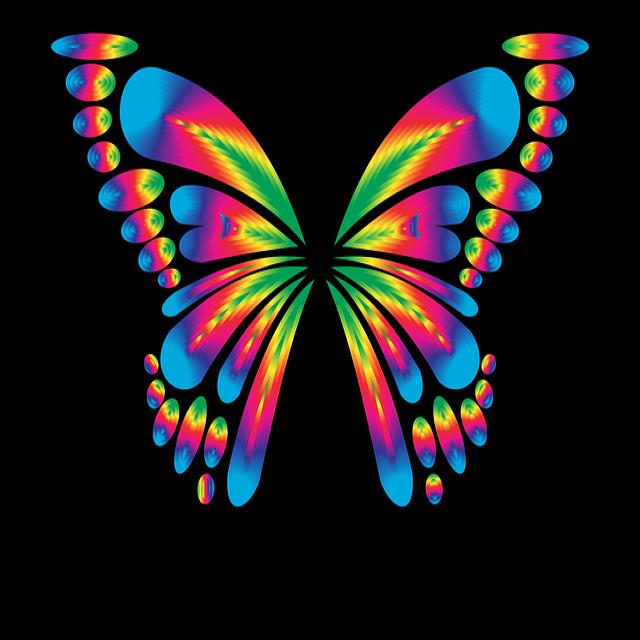butterfly: (0, 2, 640, 638)
